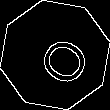O_NW: (22, 23, 88, 87)
